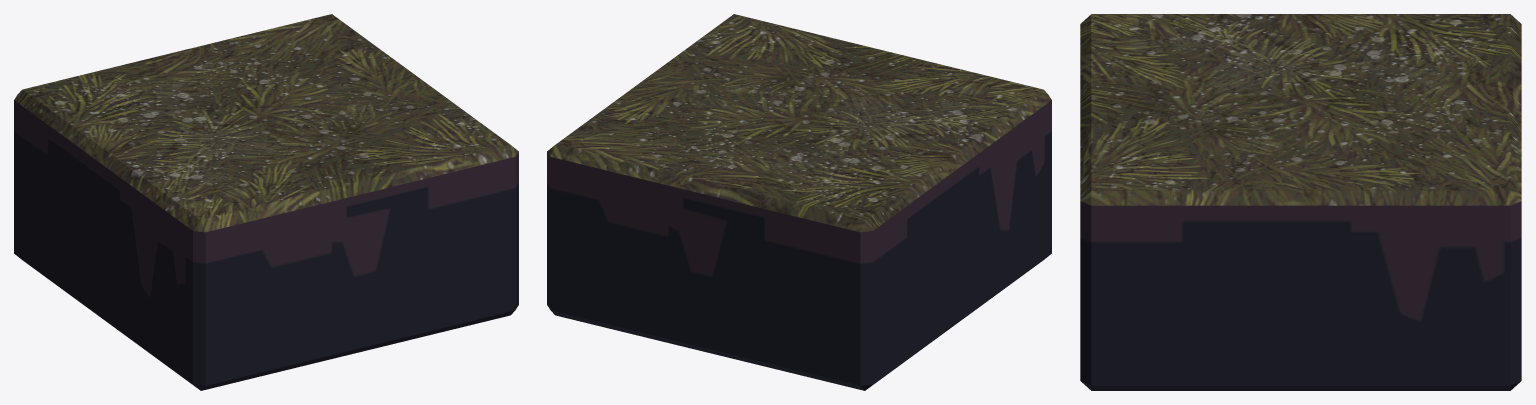
Rendered from tileforest001.glb.
3 renders of one model, left to right at view 1: azimuth 30°, elevation 25°; view 2: azimuth 150°, elevation 25°; view 3: azimuth 270°, elevation 25°, orthographic. The views are drawn at different scales.
Parts seen in each view (by area): view 1: tileforest001; view 2: tileforest001; view 3: tileforest001.
Part boxes in pixels (box(x1,y1,x2,y2)): tileforest001: box(14, 14, 518, 390); tileforest001: box(547, 14, 1051, 390); tileforest001: box(1080, 14, 1521, 390).
Size of the model in its own units: 1 by 0.5 by 1.
2 materials, 2 textured.
